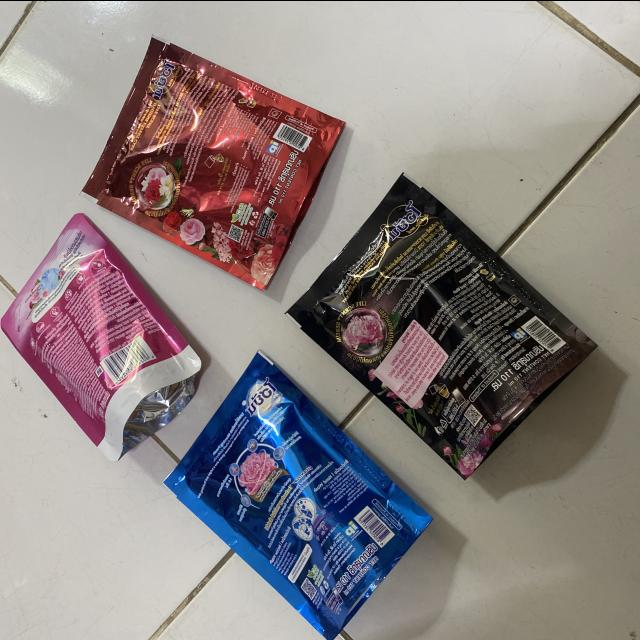plastik: (287, 174, 596, 477), (163, 351, 431, 640), (82, 35, 345, 289), (1, 213, 201, 460)
